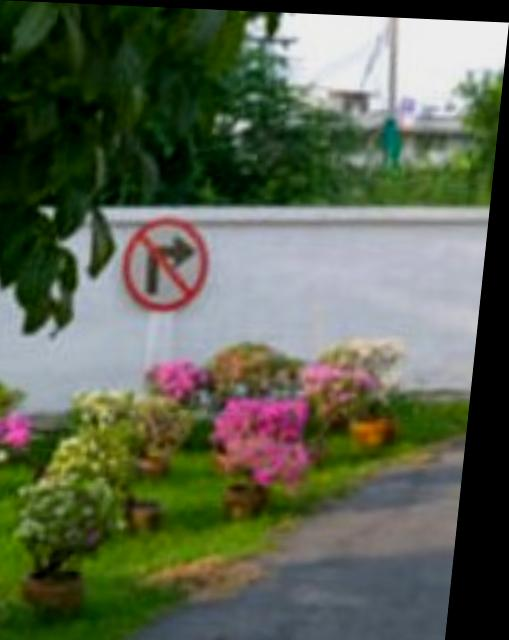not_turn_right: (119, 208, 227, 320)
